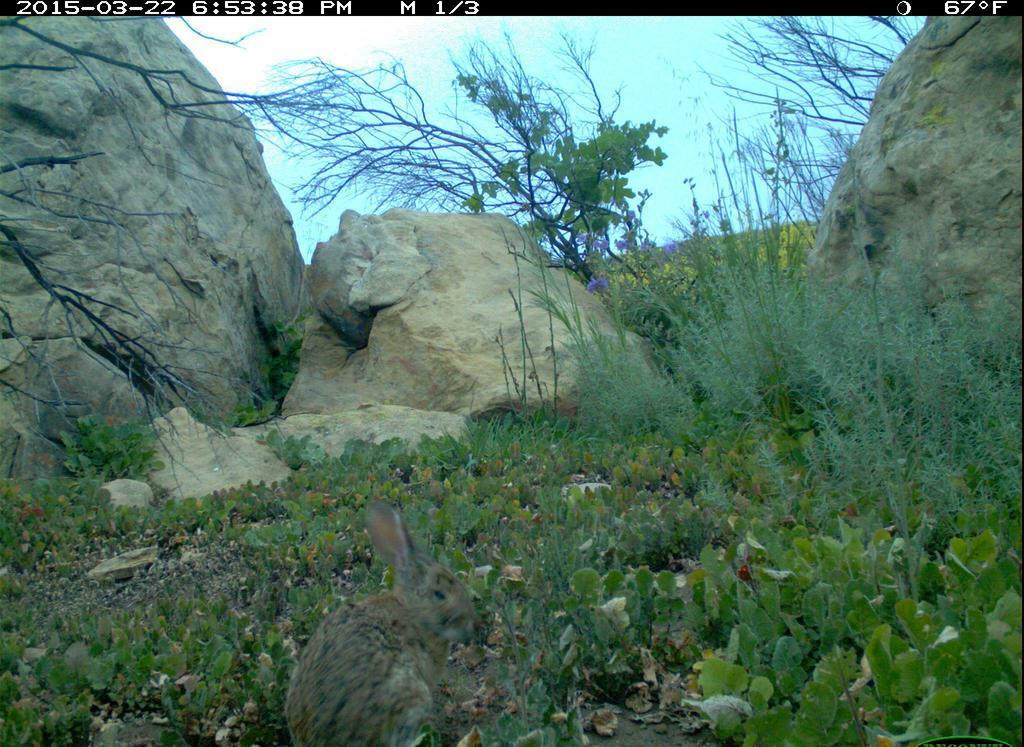rabbit: (280, 496, 495, 747)
